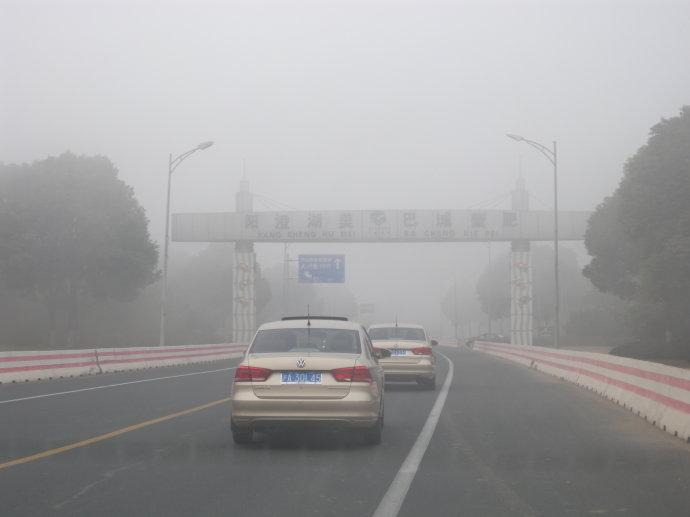car: (230, 305, 392, 444), (360, 316, 438, 393), (465, 330, 512, 349)
